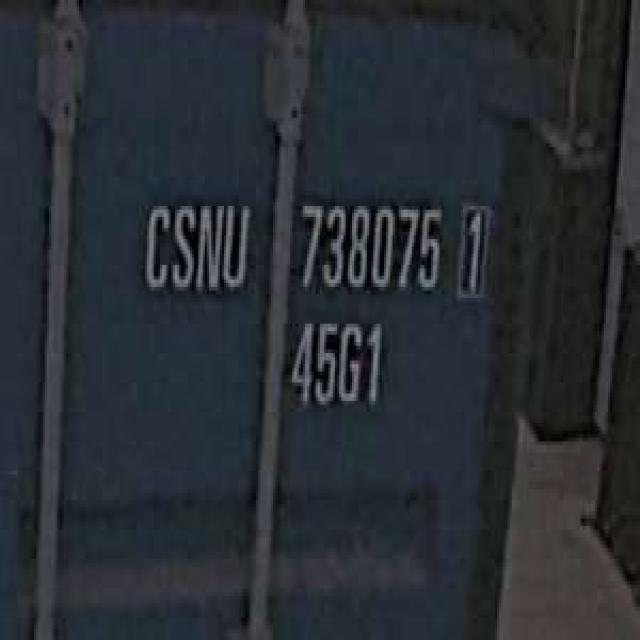dv: (452, 195, 493, 305)
owner: (136, 192, 252, 306)
serial: (294, 191, 444, 302)
size: (284, 309, 384, 416)
